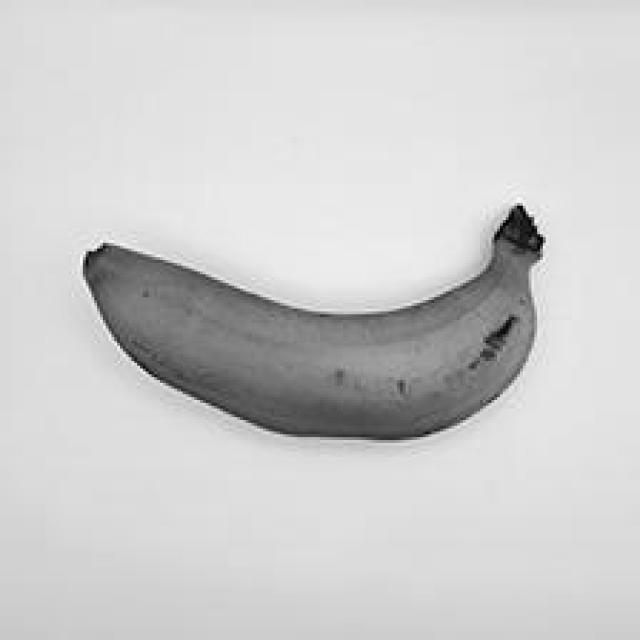Raw: (69, 168, 575, 469)
